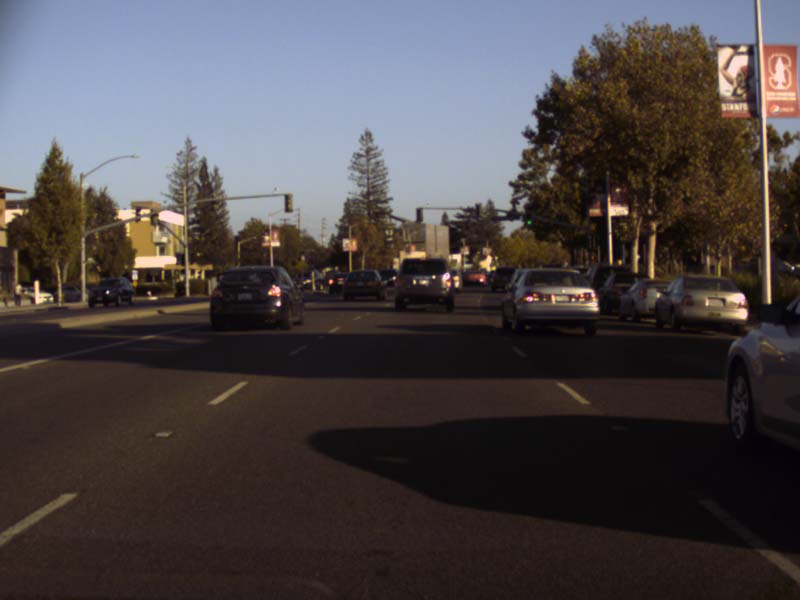Green: (525, 209, 535, 226), (588, 235, 592, 249)
